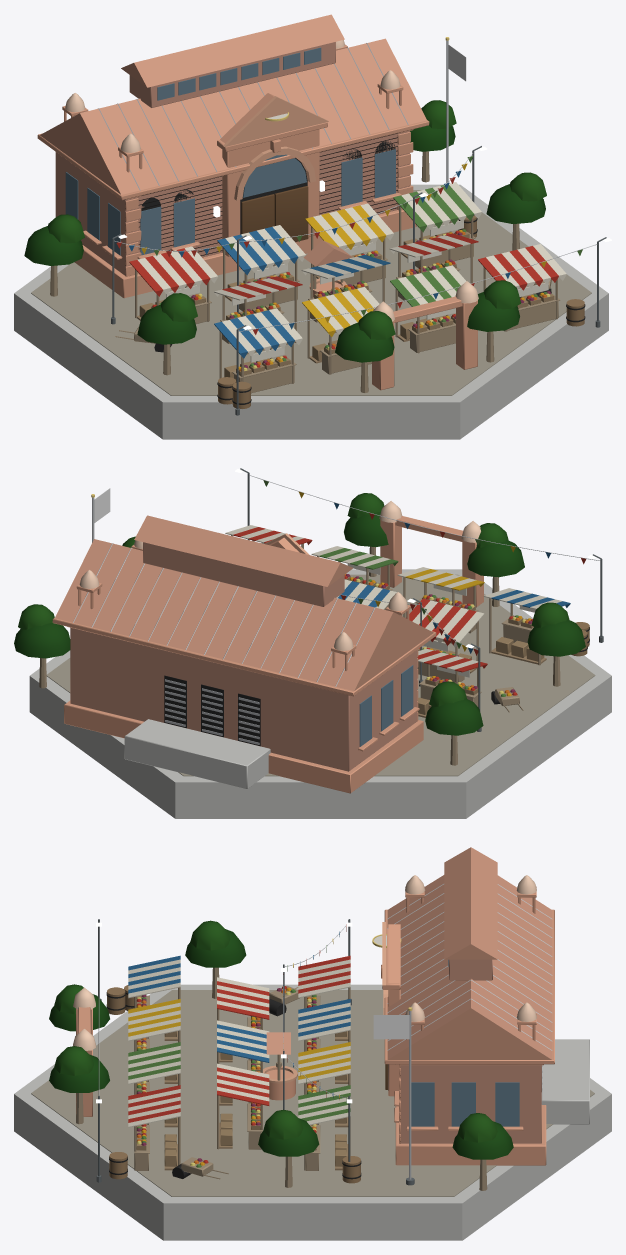
File: market_india.glb
3 renders of one model, top to bottom at view 1: azimuth 30°, elevation 25°; view 2: azimuth 150°, elevation 25°; view 3: azimuth 270°, elevation 25°, orthographic. The views are drawn at different scales.
Visible parts, largest first — view 1: roof_tile, wall_concrete, paint, pavers, stone, wood, leaf, brick, glass, dark, metal, plaster (+1 smaller); view 2: roof_tile, wall_concrete, brick, pavers, stone, leaf, paint, wood, metal, dark, glass, plaster (+1 smaller); view 3: pavers, wall_concrete, roof_tile, paint, leaf, stone, wood, brick, metal, glass, plaster, steel_dark (+2 smaller).
Boxes of the visible parts, <box> form: roof_tile: <box>40,14,426,266</box>; wall_concrete: <box>14,184,608,439</box>; paint: <box>116,113,582,371</box>; pavers: <box>31,190,591,395</box>; stone: <box>37,44,477,390</box>; wood: <box>50,151,584,408</box>; leaf: <box>24,100,546,362</box>; brick: <box>55,42,409,275</box>; glass: <box>65,47,395,255</box>; dark: <box>125,133,585,404</box>; metal: <box>98,40,597,331</box>; plaster: <box>65,40,478,321</box>; roof_tile: <box>55,515,433,690</box>; wall_concrete: <box>29,569,611,818</box>; brick: <box>70,542,417,771</box>; pavers: <box>46,574,595,776</box>; stone: <box>52,516,483,793</box>; leaf: <box>14,493,585,735</box>; paint: <box>225,480,586,696</box>; wood: <box>39,535,589,765</box>; metal: <box>73,475,599,744</box>; dark: <box>164,627,589,746</box>; glass: <box>359,665,413,746</box>; plaster: <box>79,501,480,650</box>; pavers: <box>31,990,594,1196</box>; wall_concrete: <box>14,984,611,1240</box>; roof_tile: <box>266,847,551,1059</box>; paint: <box>128,924,386,1167</box>; leaf: <box>49,920,513,1159</box>; stone: <box>76,886,554,1165</box>; wood: <box>76,967,487,1190</box>; brick: <box>400,959,541,1143</box>; metal: <box>98,884,552,1179</box>; glass: <box>411,959,519,1126</box>; plaster: <box>73,875,536,1050</box>; steel_dark: <box>96,919,414,1185</box>.
Size of the model in its own units: 21.41 by 10.7 by 24.6.
